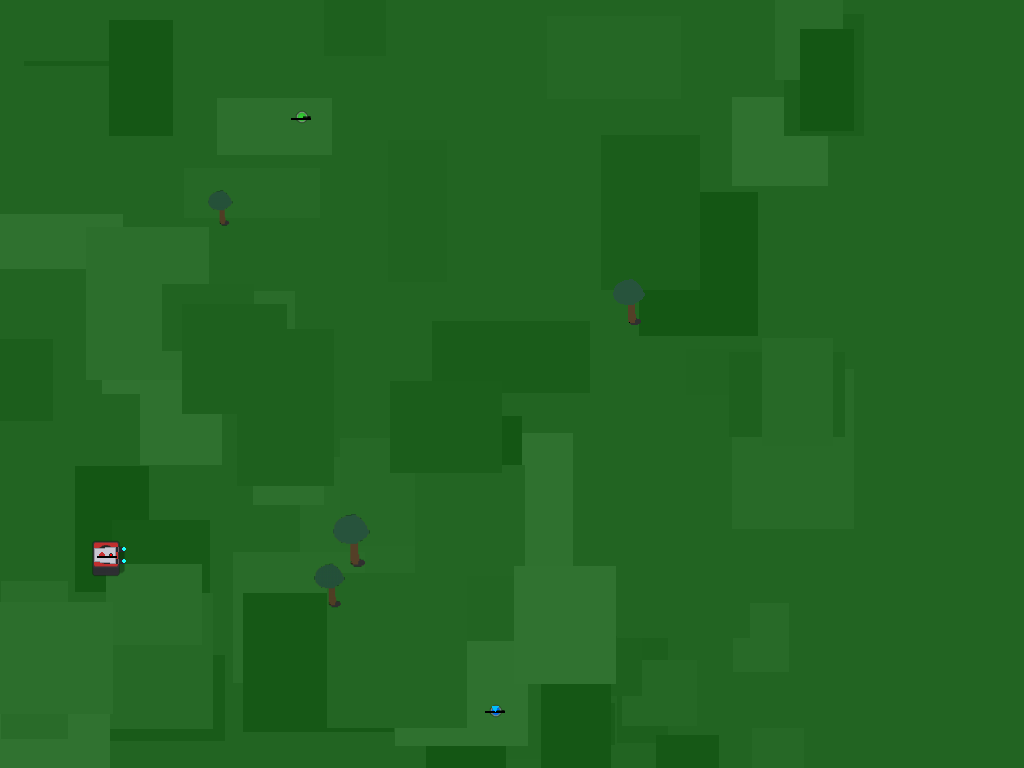Helicopter: (84, 532, 129, 577)
PowerPlant: (481, 696, 509, 724), (287, 103, 315, 131)
